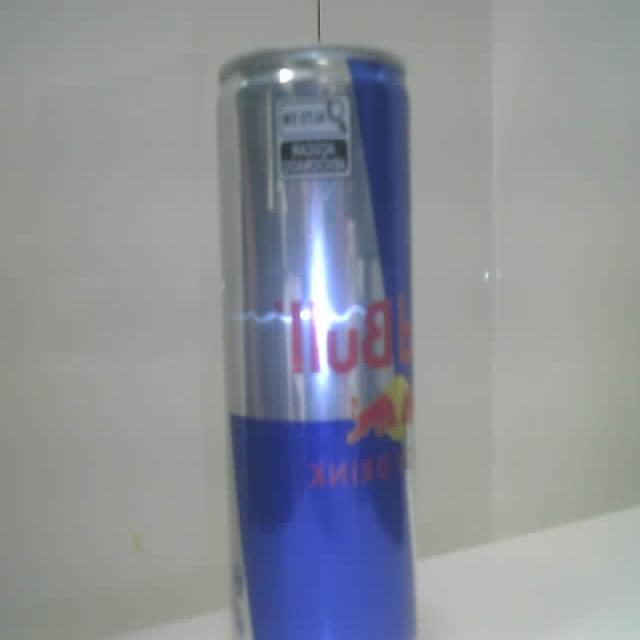redbull can: (218, 46, 415, 639)
